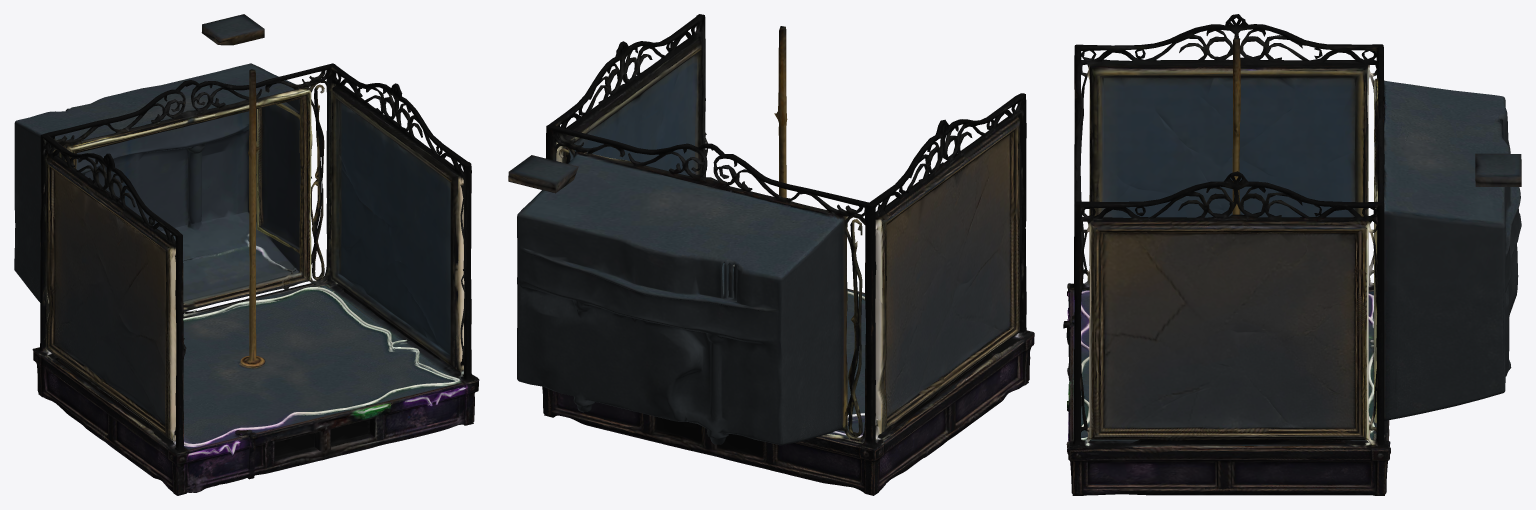
The model's file is Caberet-neon.glb.
The picture shows the model from 3 angles, left to right: view 1: azimuth 30°, elevation 25°; view 2: azimuth 150°, elevation 25°; view 3: azimuth 270°, elevation 25°; orthographic projection. The views are drawn at different scales.
Parts seen in each view (by area): view 1: tripo_node_351c863c-e42a-4426-88a7-470a0f9cb801; view 2: tripo_node_351c863c-e42a-4426-88a7-470a0f9cb801; view 3: tripo_node_351c863c-e42a-4426-88a7-470a0f9cb801.
Boxes of the visible parts, x1=… form: tripo_node_351c863c-e42a-4426-88a7-470a0f9cb801: x1=14, y1=14, x2=479, y2=495; tripo_node_351c863c-e42a-4426-88a7-470a0f9cb801: x1=508, y1=14, x2=1034, y2=495; tripo_node_351c863c-e42a-4426-88a7-470a0f9cb801: x1=1063, y1=14, x2=1521, y2=495.
Bounding box in the file's own units: 0.8431 × 0.8946 × 0.9793.
1 material, 1 textured.
